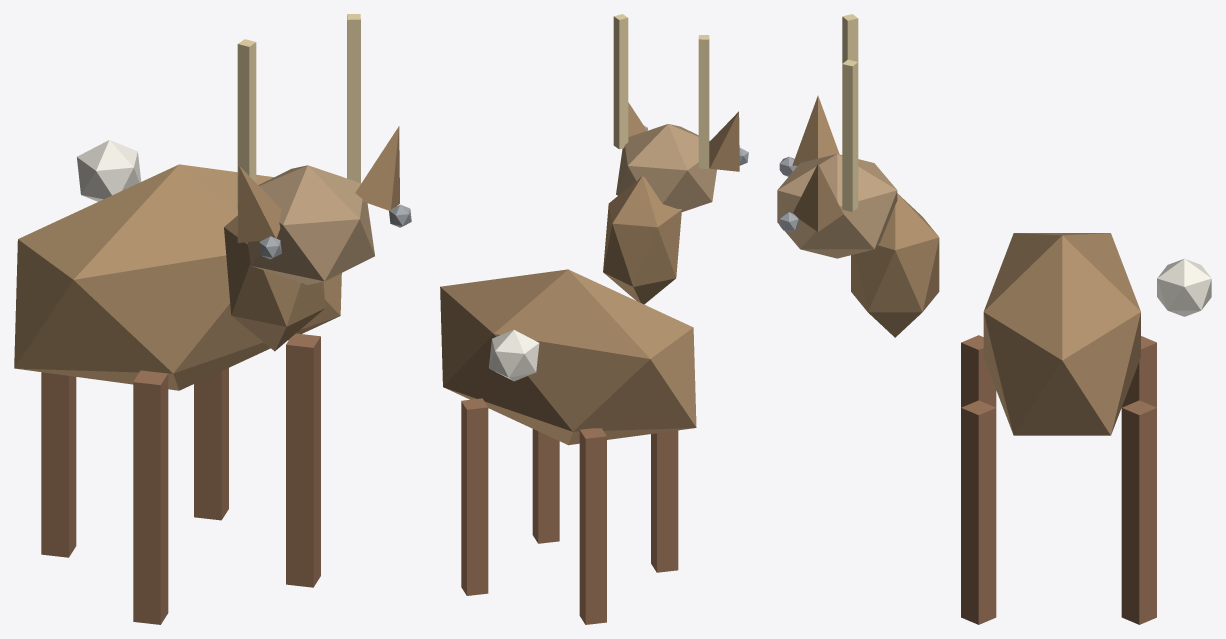
Rendered from forest_deer.glb.
3 views of the same model, side by side, from view 1: azimuth 30°, elevation 25°; view 2: azimuth 150°, elevation 25°; view 3: azimuth 270°, elevation 25° (orthographic). The views are drawn at different scales.
Parts seen in each view (by area): view 1: body.001, head.010, leg_0_0, leg_1_0, leg_0_1, neck, leg_1_1, tail.002, ear_0, antler_0_1, ear_1, antler_1_1 (+2 smaller); view 2: body.001, neck, head.010, leg_1_1, leg_0_1, leg_0_0, leg_1_0, tail.002, ear_0, antler_1_0, antler_0_1, antler_1_1 (+1 smaller); view 3: body.001, neck, leg_1_1, leg_1_0, head.010, tail.002, leg_0_0, ear_1, antler_1_0, antler_1_1, ear_0, leg_0_1 (+1 smaller).
Part boxes in pixels (<box>): body.001: <box>14,164,341,390</box>; head.010: <box>247,165,374,284</box>; leg_0_0: <box>133,370,168,624</box>; leg_1_0: <box>286,333,320,587</box>; leg_0_1: <box>41,372,76,557</box>; neck: <box>224,215,325,351</box>; leg_1_1: <box>194,368,228,520</box>; tail.002: <box>77,140,141,201</box>; ear_0: <box>237,165,281,242</box>; antler_0_1: <box>237,39,256,159</box>; ear_1: <box>355,126,399,211</box>; antler_1_1: <box>347,14,360,132</box>; body.001: <box>440,269,696,445</box>; neck: <box>603,176,681,304</box>; head.010: <box>616,124,716,211</box>; leg_1_1: <box>461,398,488,595</box>; leg_0_1: <box>579,428,606,624</box>; leg_0_0: <box>651,430,678,572</box>; leg_1_0: <box>532,429,559,543</box>; tail.002: <box>488,330,539,381</box>; ear_0: <box>709,111,739,171</box>; antler_1_0: <box>613,58,628,149</box>; antler_0_1: <box>698,35,709,127</box>; antler_1_1: <box>613,14,628,106</box>; body.001: <box>983,233,1140,435</box>; neck: <box>851,193,939,337</box>; leg_1_1: <box>1121,400,1156,624</box>; leg_1_0: <box>961,400,996,624</box>; head.010: <box>777,154,897,258</box>; tail.002: <box>1157,258,1211,316</box>; leg_0_0: <box>961,335,996,407</box>; ear_1: <box>793,164,843,231</box>; antler_1_0: <box>842,109,858,211</box>; antler_1_1: <box>842,59,858,164</box>; ear_0: <box>792,95,839,165</box>; leg_0_1: <box>1122,336,1156,407</box>.
Size of the model in its own units: 1.04 by 1.87 by 1.35.
